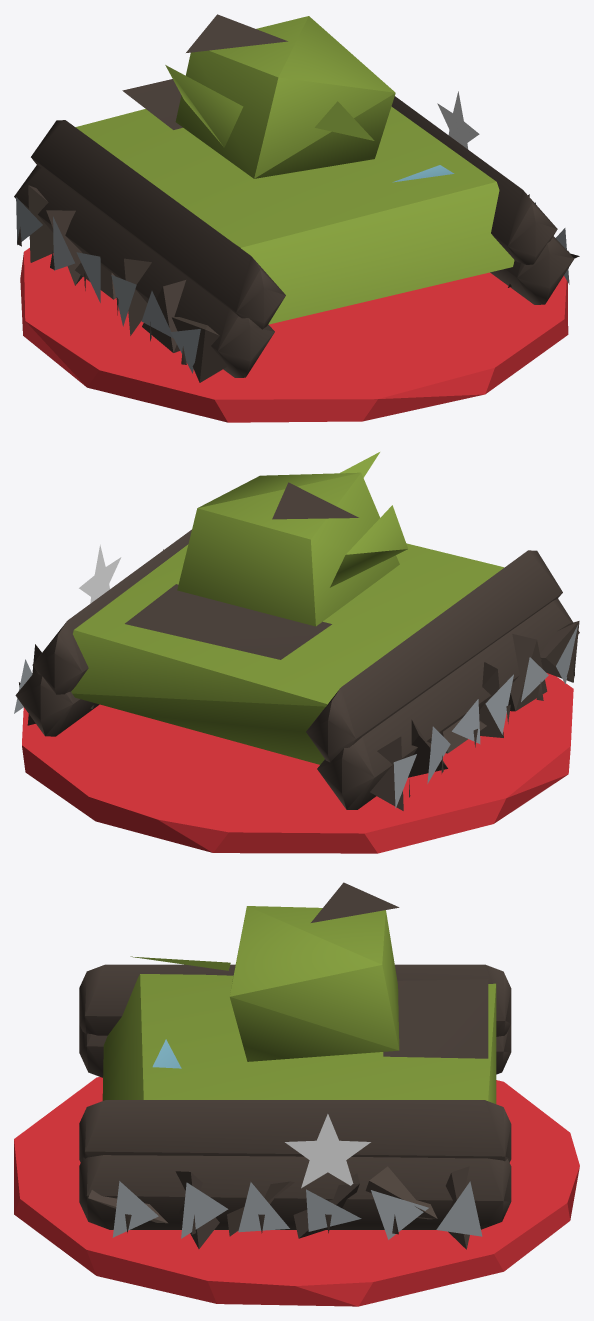
Rendered from usa_infantry_lod1.glb.
3 views of the same model, one above another, from view 1: azimuth 30°, elevation 25°; view 2: azimuth 150°, elevation 25°; view 3: azimuth 270°, elevation 25° (orthographic). The views are drawn at different scales.
Parts seen in each view (by area): view 1: body_hull, base_pedestal; view 2: body_hull, base_pedestal; view 3: body_hull, base_pedestal.
Part boxes in pixels (x1=…): body_hull: x1=14, y1=14, x2=579, y2=382; base_pedestal: x1=20, y1=248, x2=568, y2=422; body_hull: x1=14, y1=452, x2=579, y2=810; base_pedestal: x1=22, y1=673, x2=573, y2=853; body_hull: x1=79, y1=882, x2=511, y2=1249; base_pedestal: x1=14, y1=1077, x2=579, y2=1306.
Size of the model in its own units: 0.7751 by 0.4039 by 0.7751.
